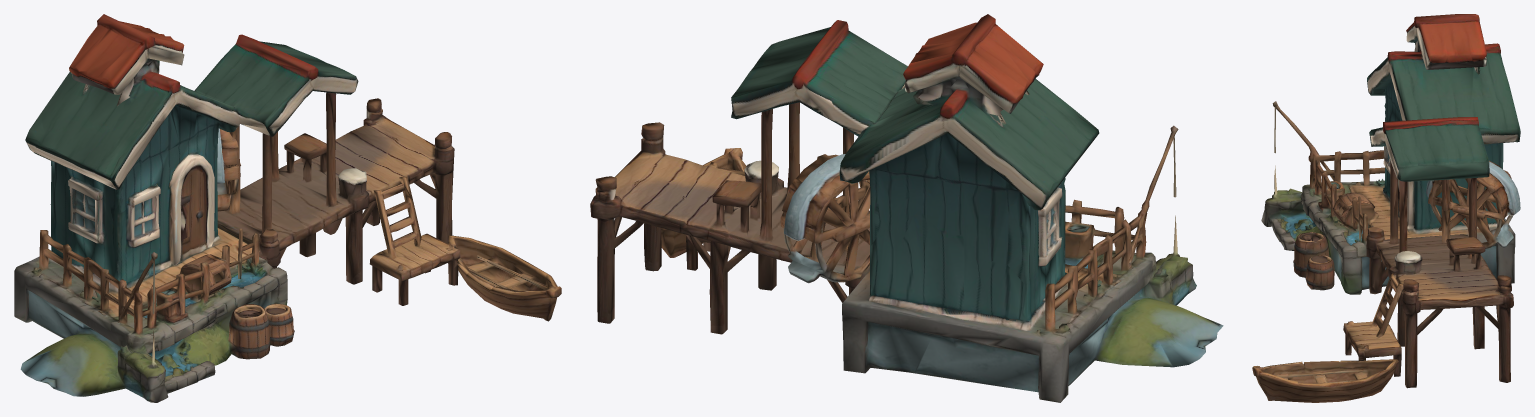
Rendered from bld_watermill_dock.glb.
The picture shows the model from 3 angles, left to right: view 1: azimuth 30°, elevation 25°; view 2: azimuth 150°, elevation 25°; view 3: azimuth 270°, elevation 25°; orthographic projection. The views are drawn at different scales.
Parts seen in each view (by area): view 1: tripo_node_c672d31c-f4bb-4a47-9f5e-83006c66125c; view 2: tripo_node_c672d31c-f4bb-4a47-9f5e-83006c66125c; view 3: tripo_node_c672d31c-f4bb-4a47-9f5e-83006c66125c.
Part boxes in pixels (x1,y1,x2,y2): tripo_node_c672d31c-f4bb-4a47-9f5e-83006c66125c: (14, 14, 561, 402); tripo_node_c672d31c-f4bb-4a47-9f5e-83006c66125c: (590, 14, 1223, 402); tripo_node_c672d31c-f4bb-4a47-9f5e-83006c66125c: (1252, 14, 1520, 402).
Size of the model in its own units: 0.9982 by 0.5876 by 0.5614.
Materials: 1 (1 with a texture image).
